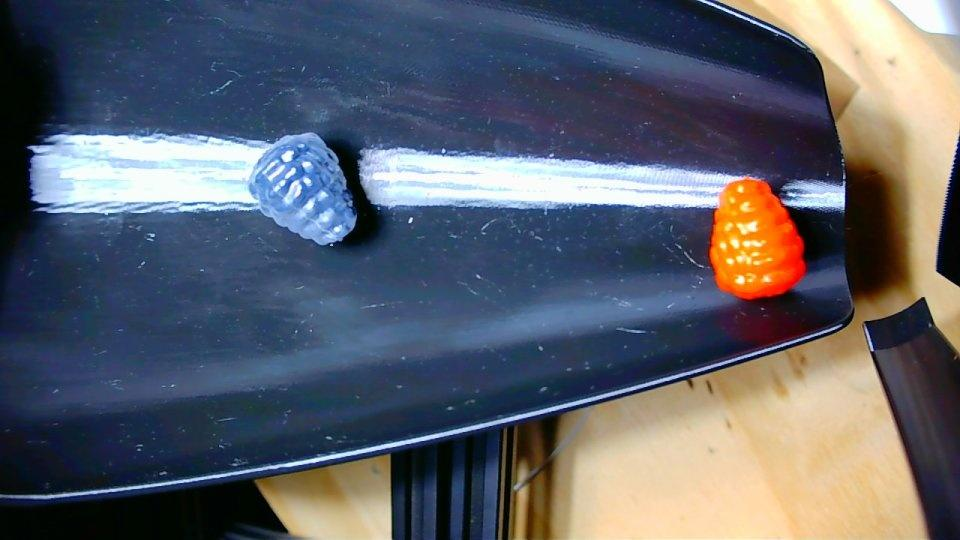berry: (248, 133, 357, 244), (709, 177, 805, 299)
